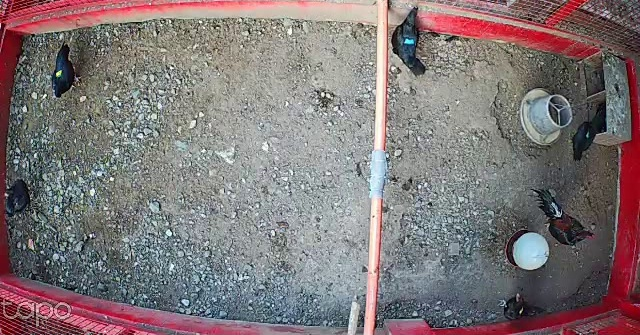Chicken: (389, 5, 430, 76), (50, 40, 86, 99), (494, 290, 548, 322), (566, 122, 600, 162), (2, 181, 37, 217)
Rooster: (528, 186, 597, 249)
Saddle_Color_Blue: (404, 38, 416, 46)
Saddle_Color_Yellow: (518, 307, 523, 316)
Saddle_Color_YellowGreen: (56, 69, 63, 77)
